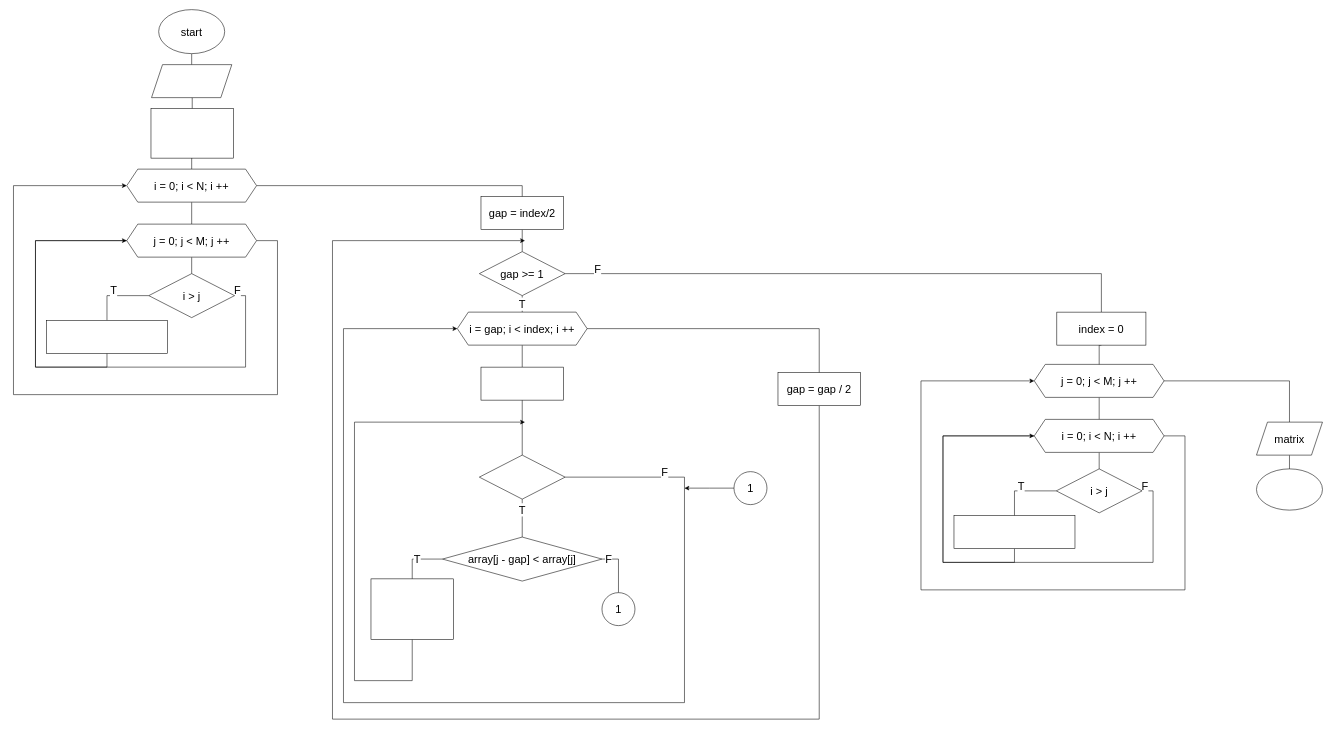
The diagram is 1332 pixels wide and 733 high, and some of its shapes have lost their labels. The centre of each missing label's shape, as x and y in pixels:
"array[index] = matrix[i][j] index = index + 1" belongs at pixel 106 336.
"array[N*M] index = 0 i, j" belongs at pixel 191 133.
"end" belongs at pixel 1289 489.
"j = i" belongs at pixel 521 383.
"j >= gap" belongs at pixel 522 477.
"matrix[i][j] = array[i][j] index = index + 1" belongs at pixel 1014 532.
"N, M matrix[N][M]" belongs at pixel 191 81.
"temp = a a = b b = temp j = j - gap" belongs at pixel 411 608.
